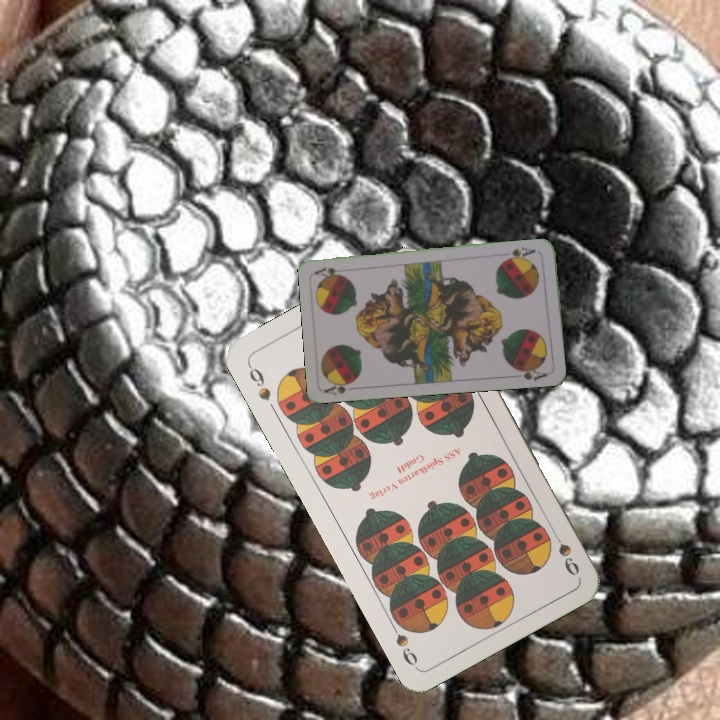S9: (546, 524, 582, 579), (244, 360, 274, 404)
SA: (321, 376, 358, 398), (501, 243, 538, 264)
